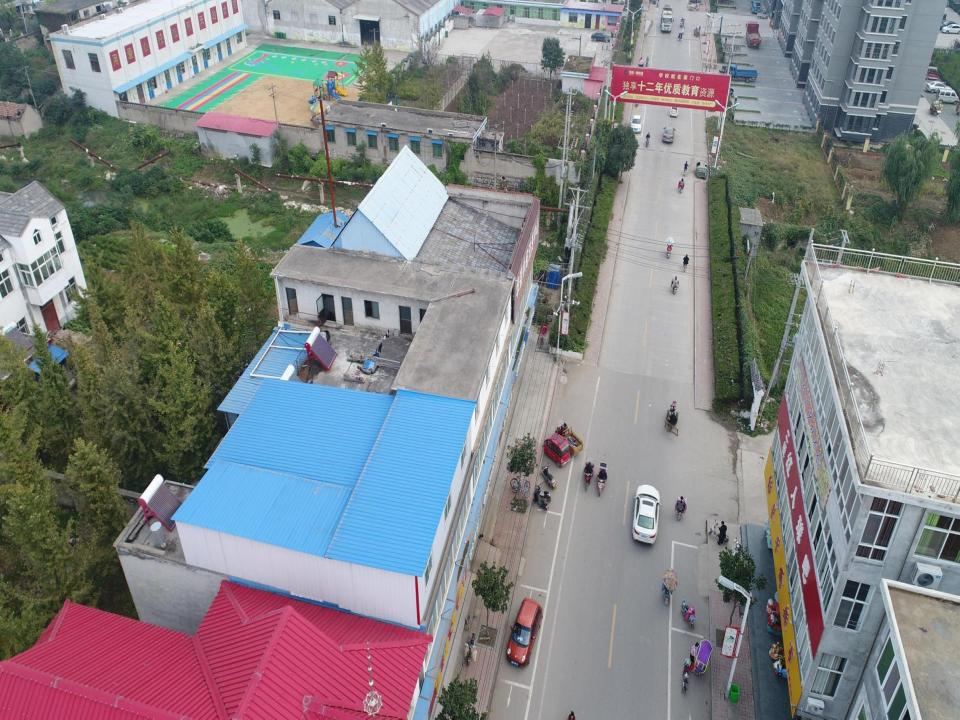car: (508, 596, 543, 668), (631, 482, 662, 546), (590, 31, 613, 42), (630, 113, 642, 134), (662, 126, 676, 144)
truck: (725, 63, 759, 83), (750, 0, 762, 14)
